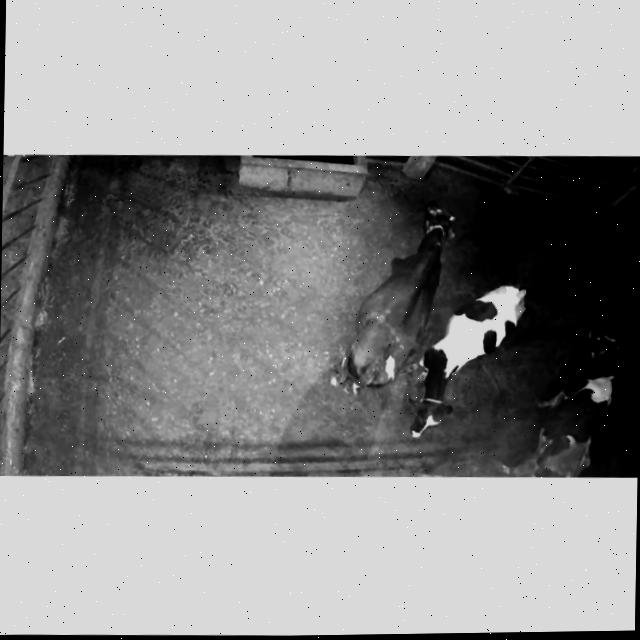stand: (331, 203, 455, 393), (409, 284, 526, 436), (531, 329, 619, 476)
